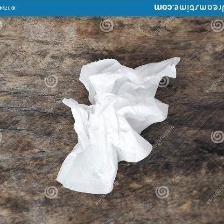tissue: (51, 53, 184, 198)
